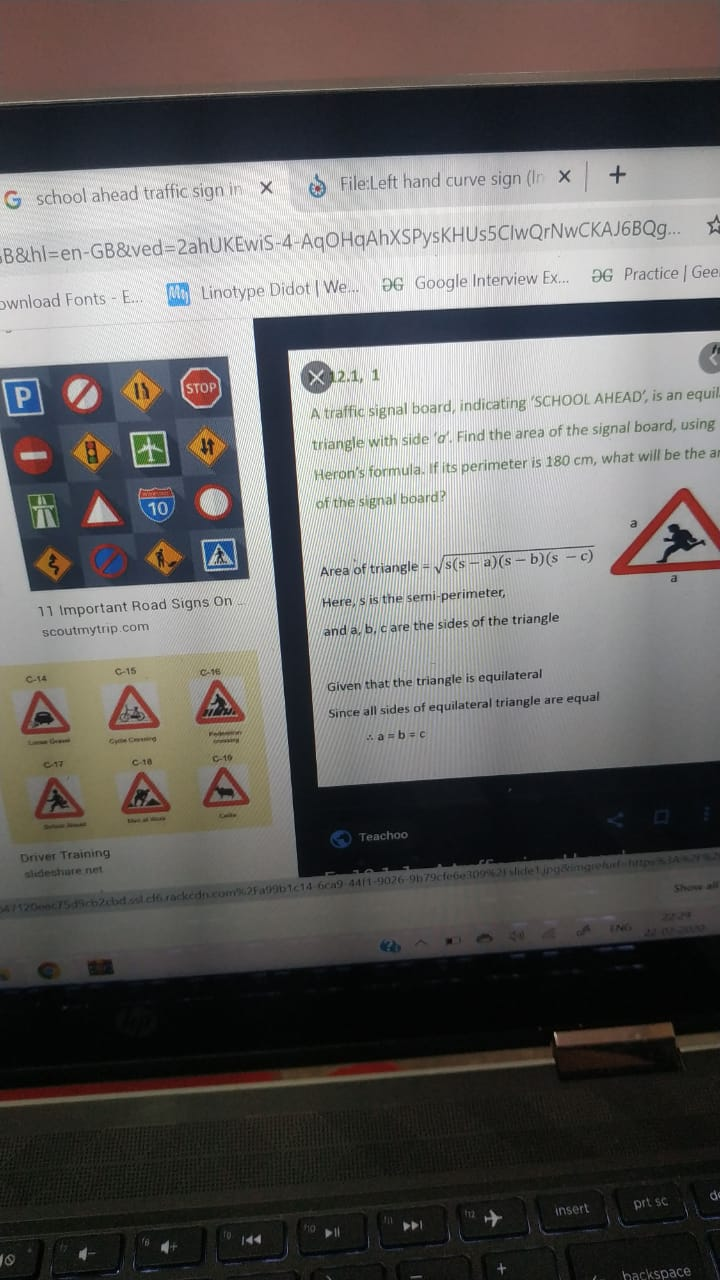NO ENTRY: (10, 434, 55, 479)
PEDESTRIAN CROSSING: (179, 657, 267, 749)
